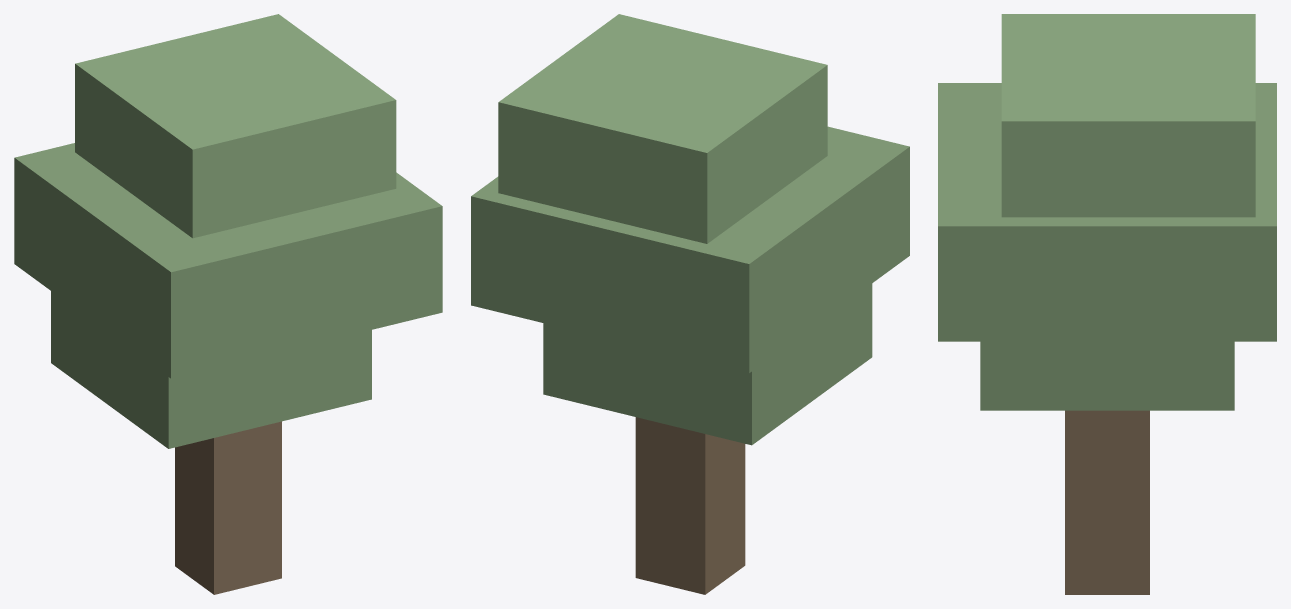
File: arbol_joven_04.glb
The picture shows the model from 3 angles, left to right: view 1: azimuth 30°, elevation 25°; view 2: azimuth 150°, elevation 25°; view 3: azimuth 270°, elevation 25°; orthographic projection. The views are drawn at different scales.
Visible parts, largest first — view 1: arbol_joven_04; view 2: arbol_joven_04; view 3: arbol_joven_04.
Part boxes in pixels (box(x1,y1,x2,y2)): arbol_joven_04: box(14, 14, 442, 594); arbol_joven_04: box(471, 14, 909, 594); arbol_joven_04: box(938, 14, 1276, 594).
Size of the model in its own units: 1.6 by 2.7 by 1.6.
